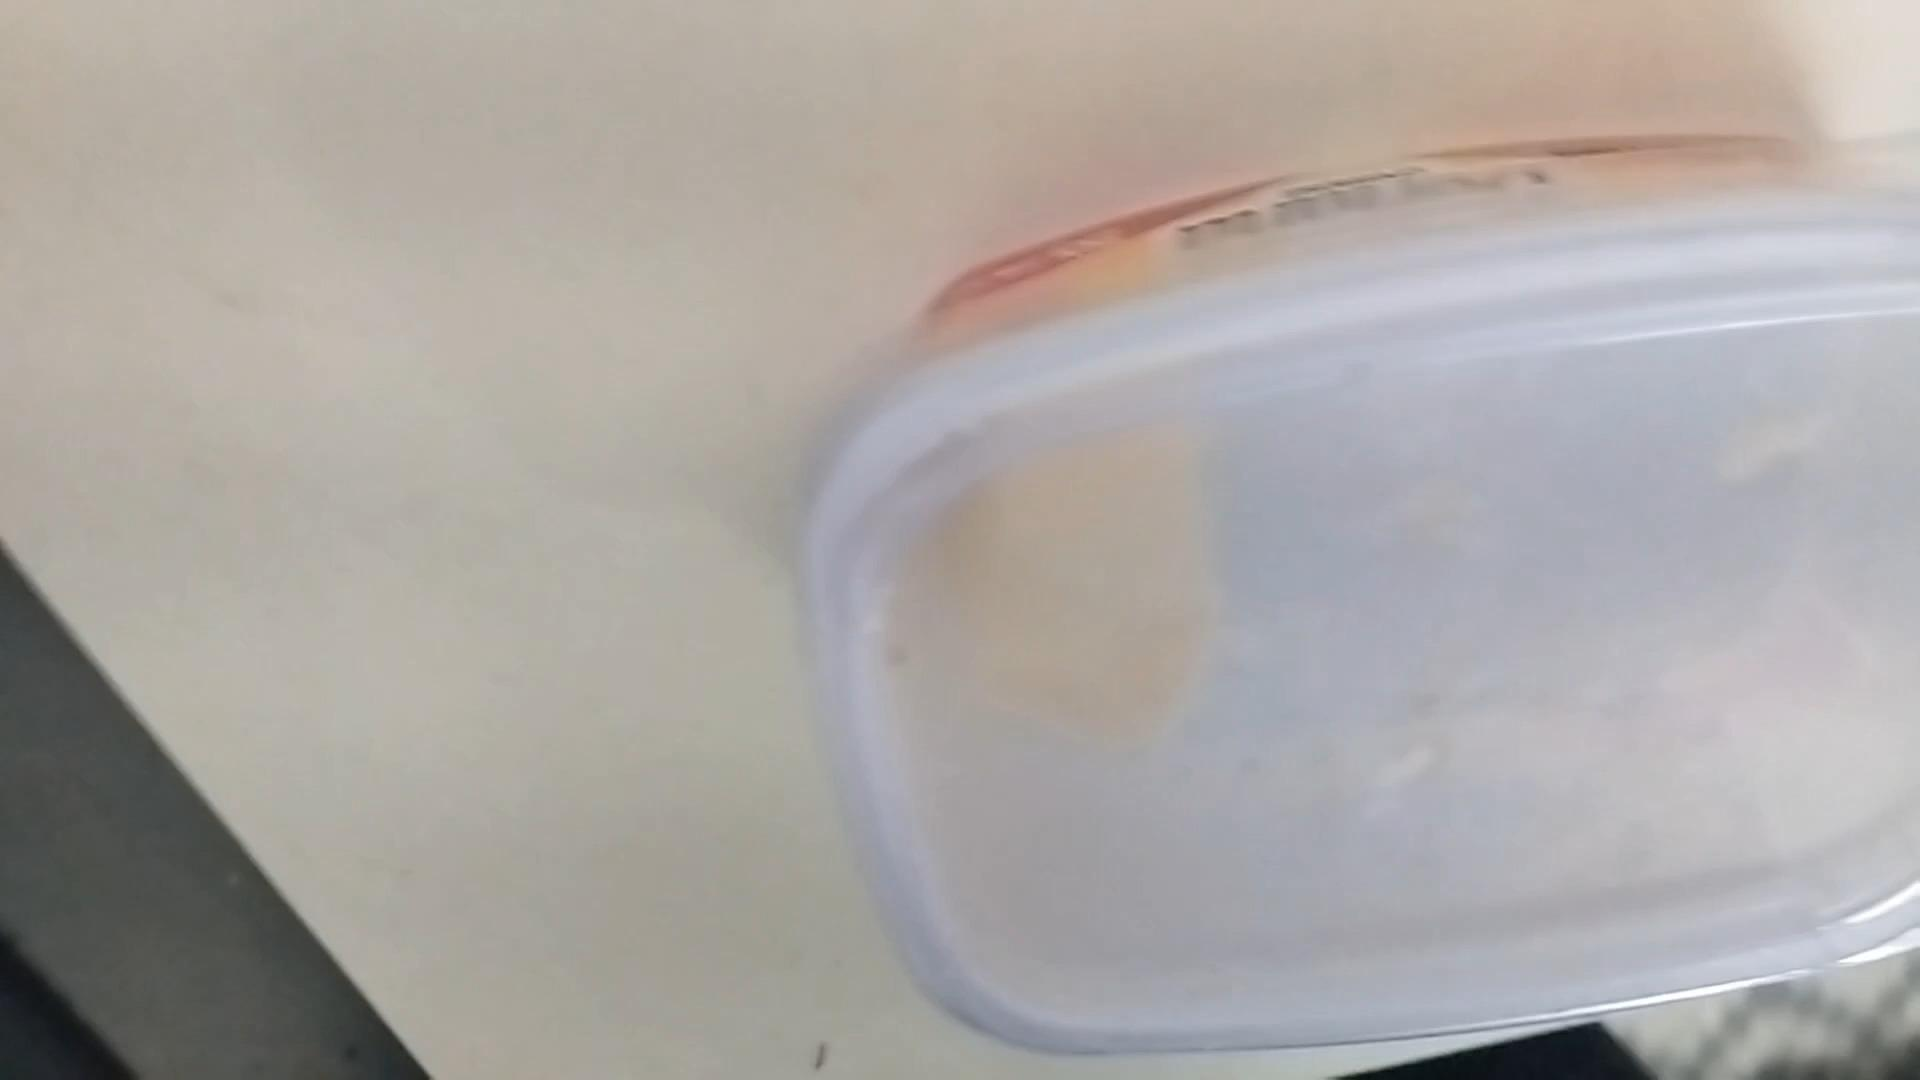butter: (796, 135, 1920, 1059)
